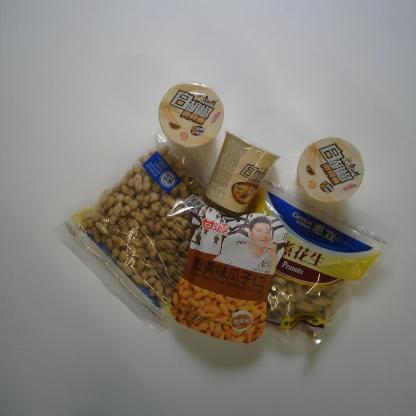Dried Food: (58, 131, 216, 337), (247, 175, 400, 356)
Dried Fruit: (170, 206, 288, 344)
Instant Noodles: (205, 130, 281, 214), (297, 136, 364, 204), (158, 81, 225, 148)
